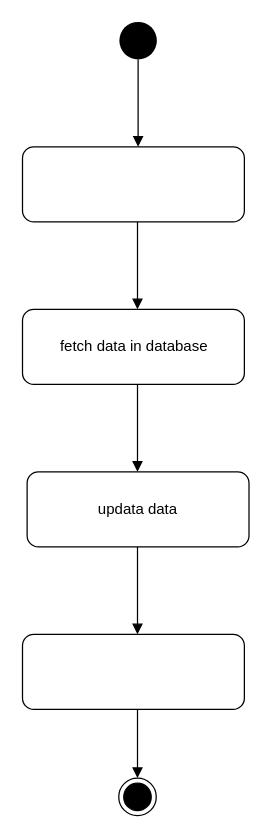
Image size: 271x838. Some labels were removed from this diagram. The shapes that lost their labels are listed below. From the top down, each one's box as (x1, y1, x2, y2) in pixels, then its label:
(21, 146, 244, 222): open updata donors
(21, 633, 244, 709): save
